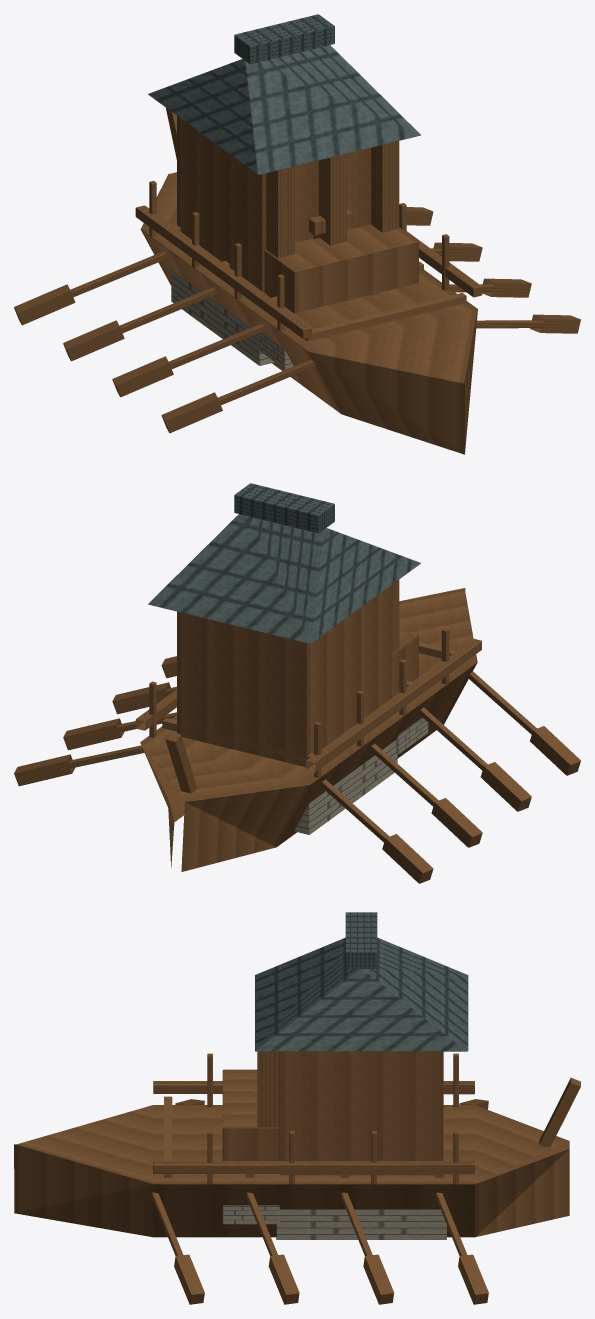
The model's file is unit-TOWER_SHIP-lod0.glb.
3 views of the same model, one above another, from view 1: azimuth 30°, elevation 25°; view 2: azimuth 150°, elevation 25°; view 3: azimuth 270°, elevation 25° (orthographic). The views are drawn at different scales.
Bounding box in the file's own units: 0.7331 × 0.492 × 0.8985.
1 material, 1 textured.
